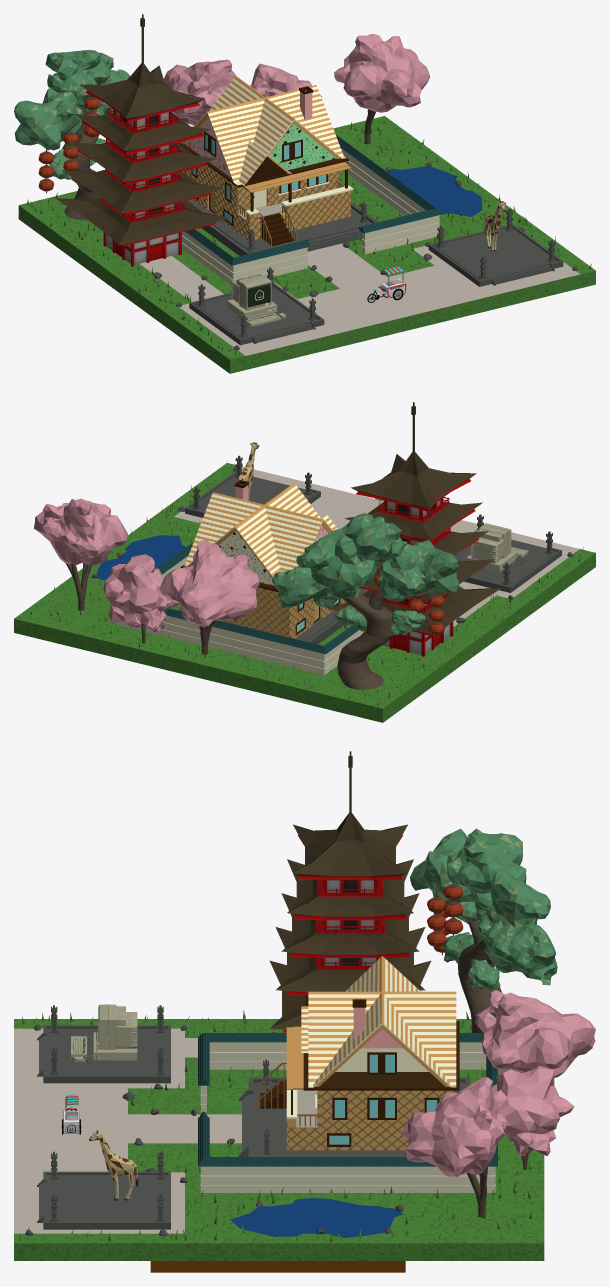
3 renders of one model, top to bottom at view 1: azimuth 30°, elevation 25°; view 2: azimuth 150°, elevation 25°; view 3: azimuth 270°, elevation 25°, orthographic. The views are drawn at different scales.
Parts seen in each view (by area): view 1: Cube.005, Cube.1102, OBJRANDOM_RETRO_PC, VEHICLES_SNOWBAL_BIKE, ANIMAL_JIRAFA; view 2: Cube.005, Cube.1102, OBJRANDOM_RETRO_PC; view 3: Cube.005, Cube.1102, UNDERGROUND_ART_PIECE_VAN_GOGH, OBJRANDOM_RETRO_PC, ANIMAL_JIRAFA.
Boxes of the visible parts, x1=… form: Cube.005: x1=14, y1=14, x2=595, y2=373; Cube.1102: x1=178, y1=76, x2=353, y2=247; OBJRANDOM_RETRO_PC: x1=227, y1=274, x2=285, y2=326; VEHICLES_SNOWBAL_BIKE: x1=367, y1=266, x2=406, y2=302; ANIMAL_JIRAFA: x1=484, y1=201, x2=506, y2=251; Cube.005: x1=14, y1=402, x2=595, y2=722; Cube.1102: x1=180, y1=480, x2=345, y2=638; OBJRANDOM_RETRO_PC: x1=466, y1=523, x2=528, y2=571; Cube.005: x1=14, y1=751, x2=595, y2=1260; Cube.1102: x1=258, y1=956, x2=459, y2=1150; UNDERGROUND_ART_PIECE_VAN_GOGH: x1=150, y1=1261, x2=405, y2=1272; OBJRANDOM_RETRO_PC: x1=71, y1=1004, x2=137, y2=1064; ANIMAL_JIRAFA: x1=89, y1=1130, x2=138, y2=1200.
Size of the model in its own units: 4528 by 2816 by 4389.
Materials: 41 (7 with a texture image).
